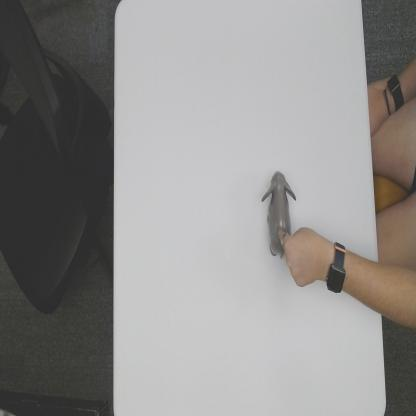Arm: (346, 248, 379, 312)
Elephant: (261, 169, 297, 258)
Hand: (277, 225, 323, 290)
